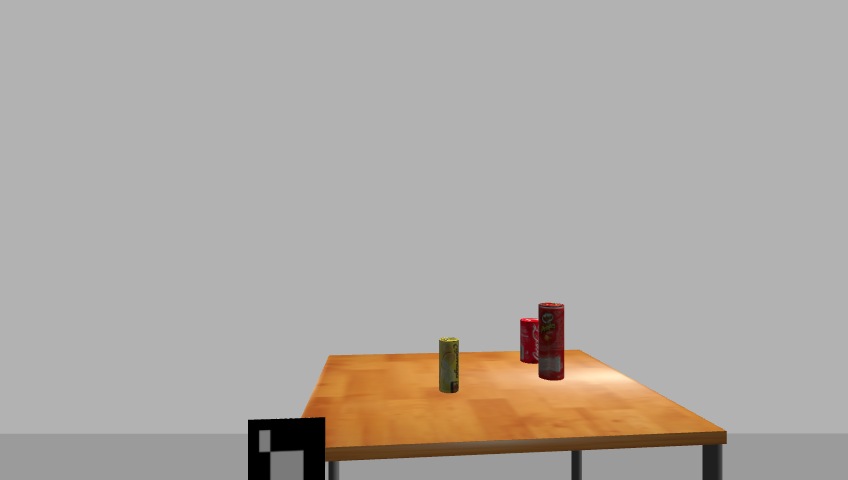aruco marker: (242, 416, 330, 480)
biscuits pack: (438, 337, 461, 395)
coke can: (517, 319, 539, 364)
dinner table: (291, 346, 735, 480)
pringles can: (537, 302, 567, 382)
